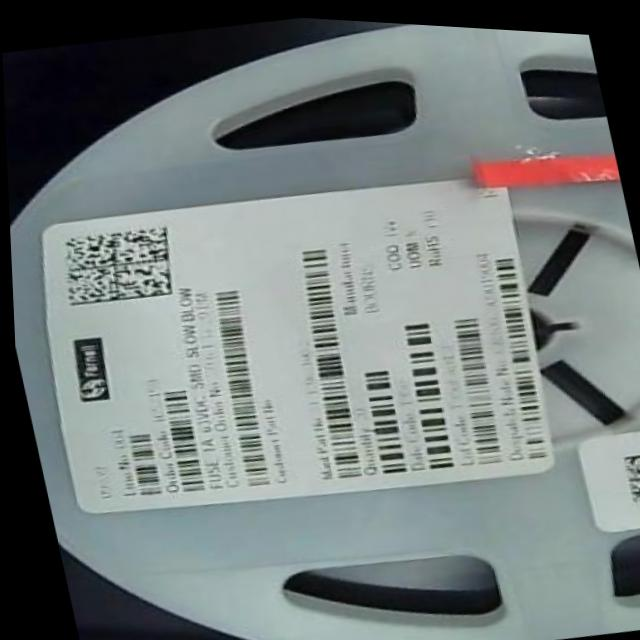datamatrix: (48, 214, 184, 314)
